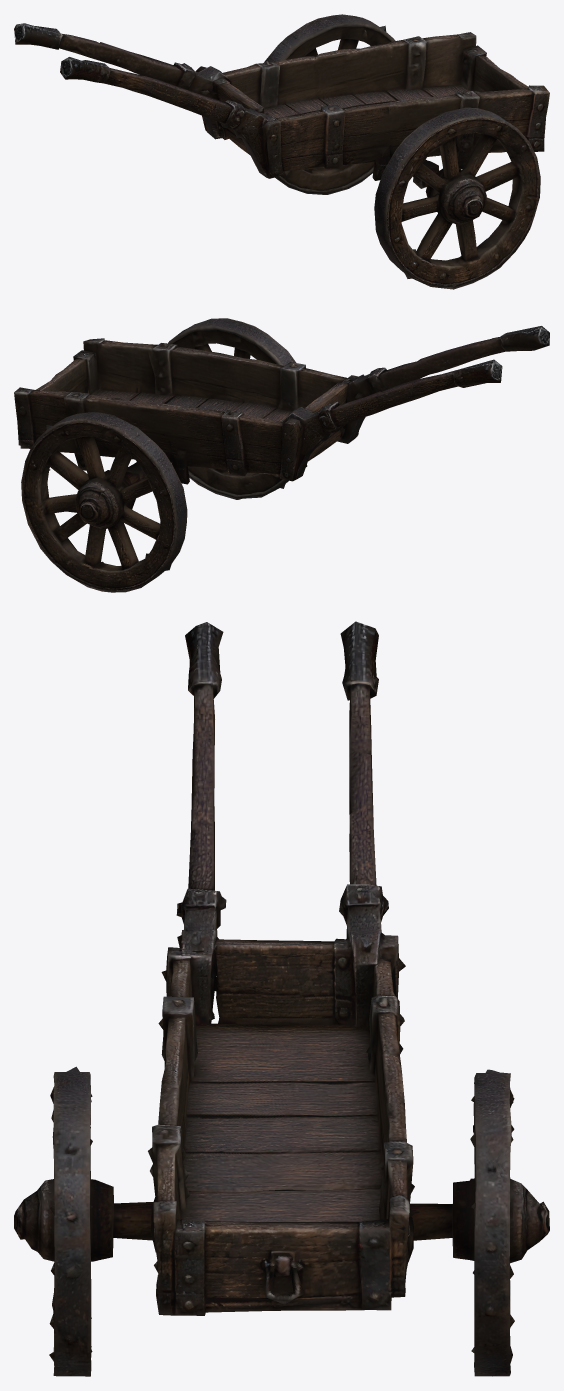
The model's file is raw_handcart.glb.
3 renders of one model, top to bottom at view 1: azimuth 30°, elevation 25°; view 2: azimuth 150°, elevation 25°; view 3: azimuth 270°, elevation 25°, orthographic. The views are drawn at different scales.
Visible parts, largest first — view 1: tripo_node_43e4737e-fb6f-45fb-8a19-07a09fbb80db; view 2: tripo_node_43e4737e-fb6f-45fb-8a19-07a09fbb80db; view 3: tripo_node_43e4737e-fb6f-45fb-8a19-07a09fbb80db.
Boxes of the visible parts, bbox=[...] form: tripo_node_43e4737e-fb6f-45fb-8a19-07a09fbb80db: bbox=[14, 14, 549, 289]; tripo_node_43e4737e-fb6f-45fb-8a19-07a09fbb80db: bbox=[14, 318, 549, 592]; tripo_node_43e4737e-fb6f-45fb-8a19-07a09fbb80db: bbox=[14, 621, 549, 1376].
Bounding box in the file's own units: 1 × 0.5673 × 0.595.
1 material, 1 textured.
